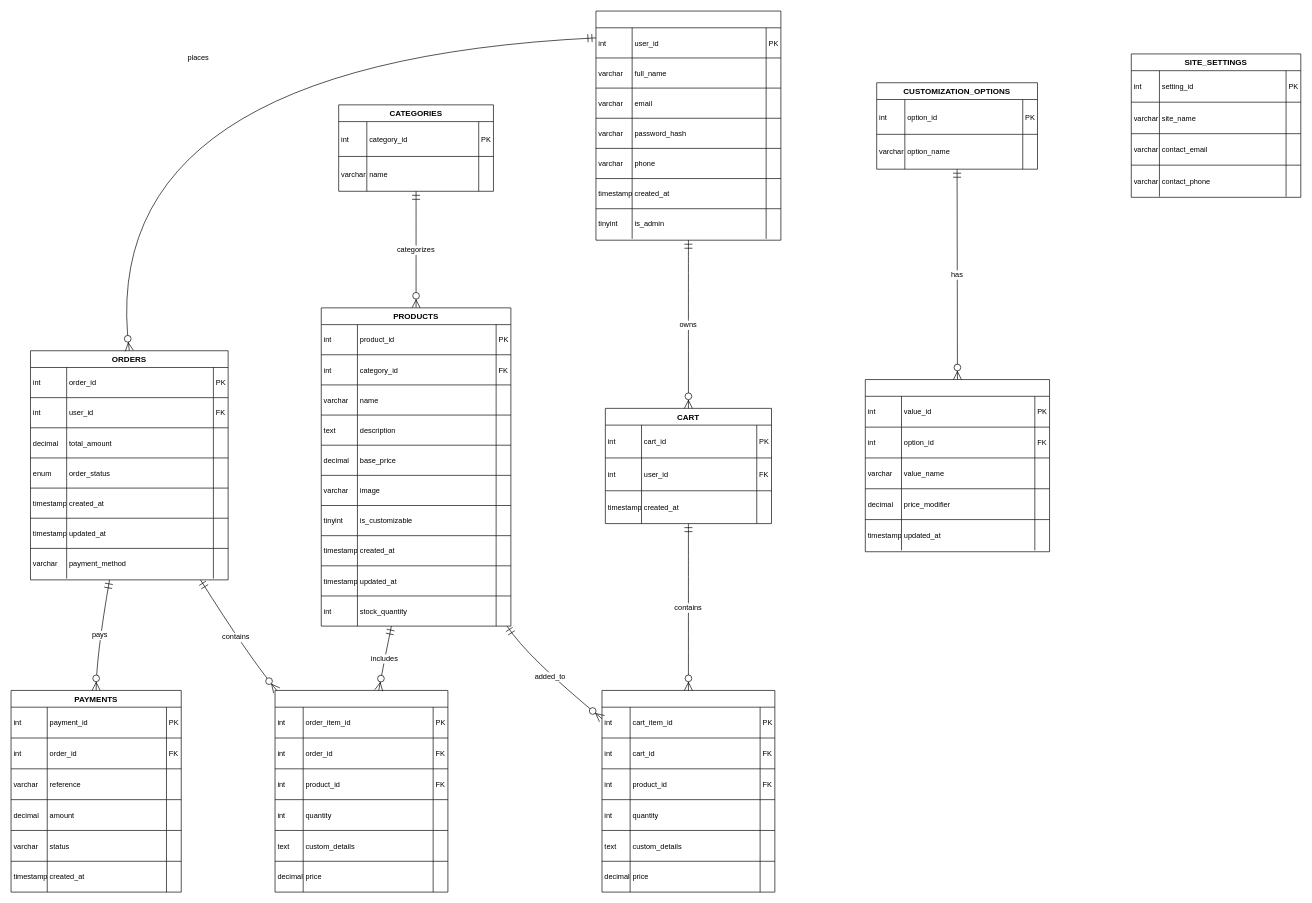
The diagram is 1312 pixels wide and 903 high, and some of its shapes have lost their labels. Each missing label, with the box of its shape:
CART_ITEMS: (601, 690, 775, 892)
CUSTOMIZATION_VALUES: (865, 379, 1050, 552)
ORDER_ITEMS: (274, 690, 448, 892)
USERS: (595, 10, 781, 240)
